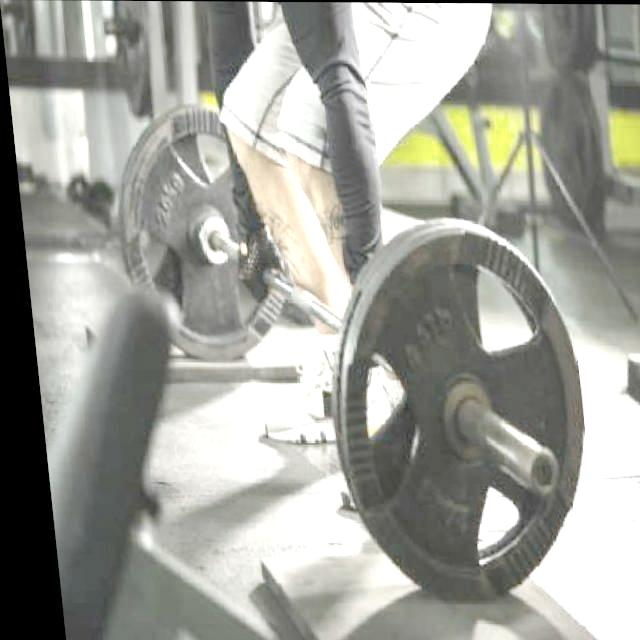barbell: (301, 218, 604, 602)
